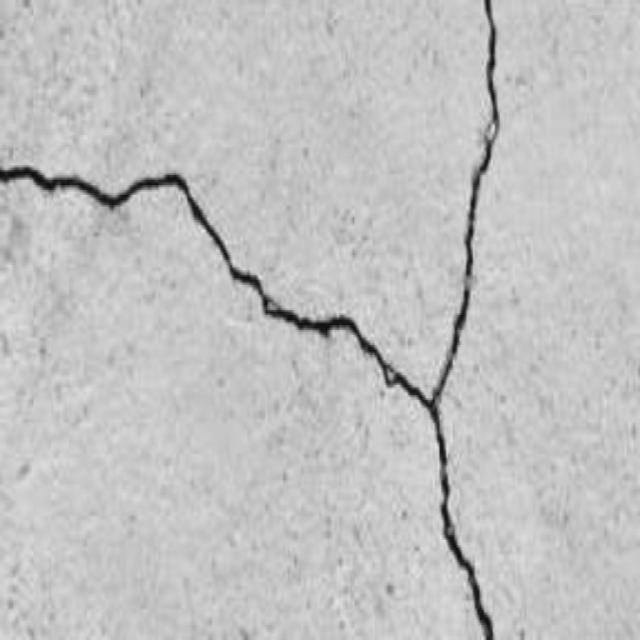SurfaceCrack: (0, 8, 580, 638)
